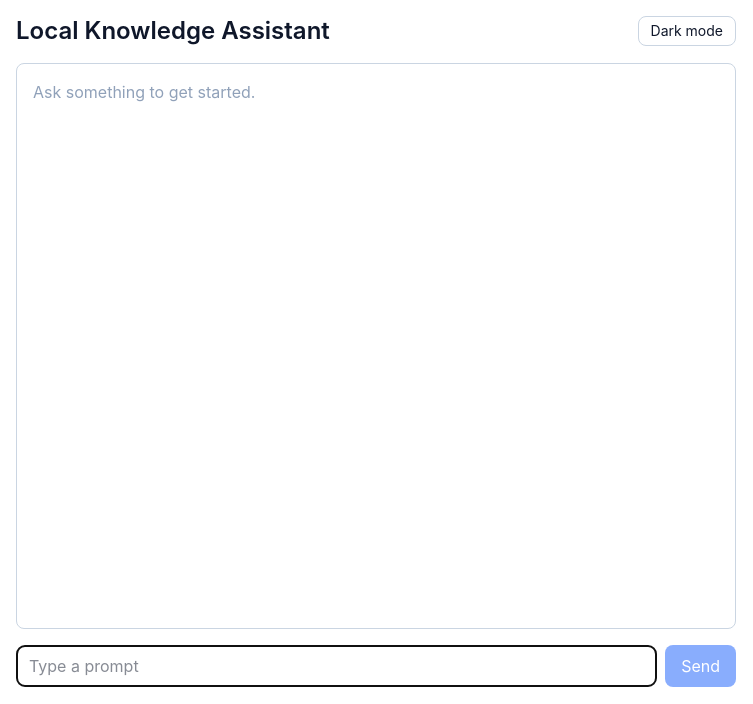
Test: App with the real stream hook › streams an answer into the page after Send
In the field with placeholder "Type a prompt": {"x": 337, "y": 666} 16,645 -> 657,687, type "how many files?"
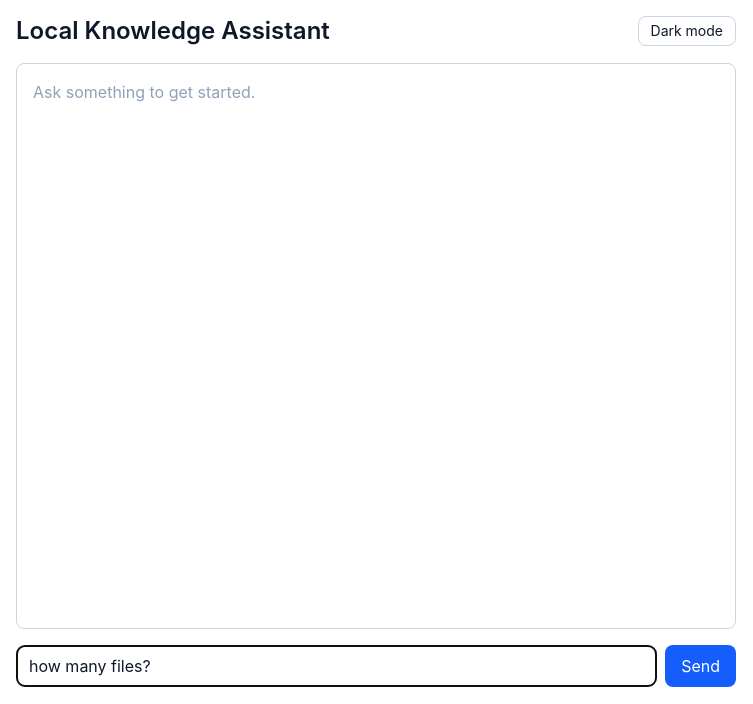
Click the button "Send": {"x": 701, "y": 666} 665,645 -> 736,687
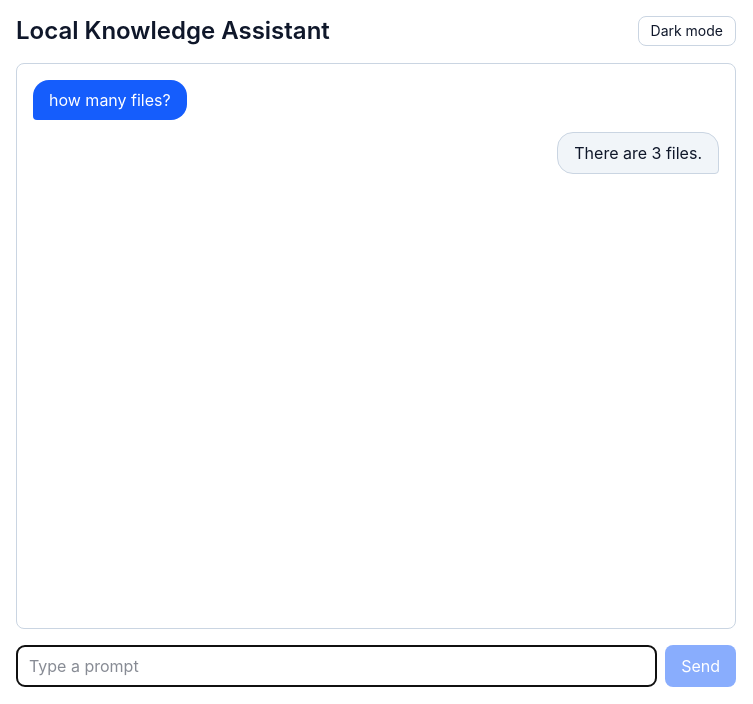
Expected: the text "There are 3 files." is shown, 574,141 -> 702,165
